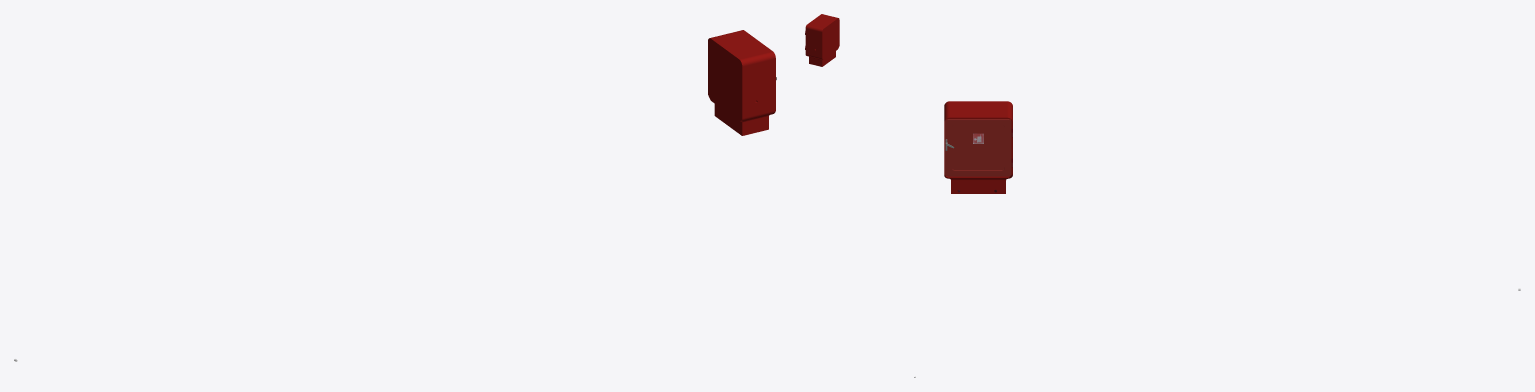
The model's file is redFireBox.glb.
The picture shows the model from 3 angles, left to right: view 1: azimuth 30°, elevation 25°; view 2: azimuth 150°, elevation 25°; view 3: azimuth 270°, elevation 25°; orthographic projection. The views are drawn at different scales.
Parts seen in each view (by area): view 1: Cube; view 2: Cube; view 3: Cube.001, Cube.
Boxes of the visible parts, x1,y1,x2,y2 form: Cube: [708, 30, 775, 135]; Cube: [805, 14, 839, 66]; Cube.001: [945, 119, 1011, 176]; Cube: [944, 101, 1012, 193].
Size of the model in its own units: 2.23 by 1.81 by 2.34.
15 materials, 1 textured.
